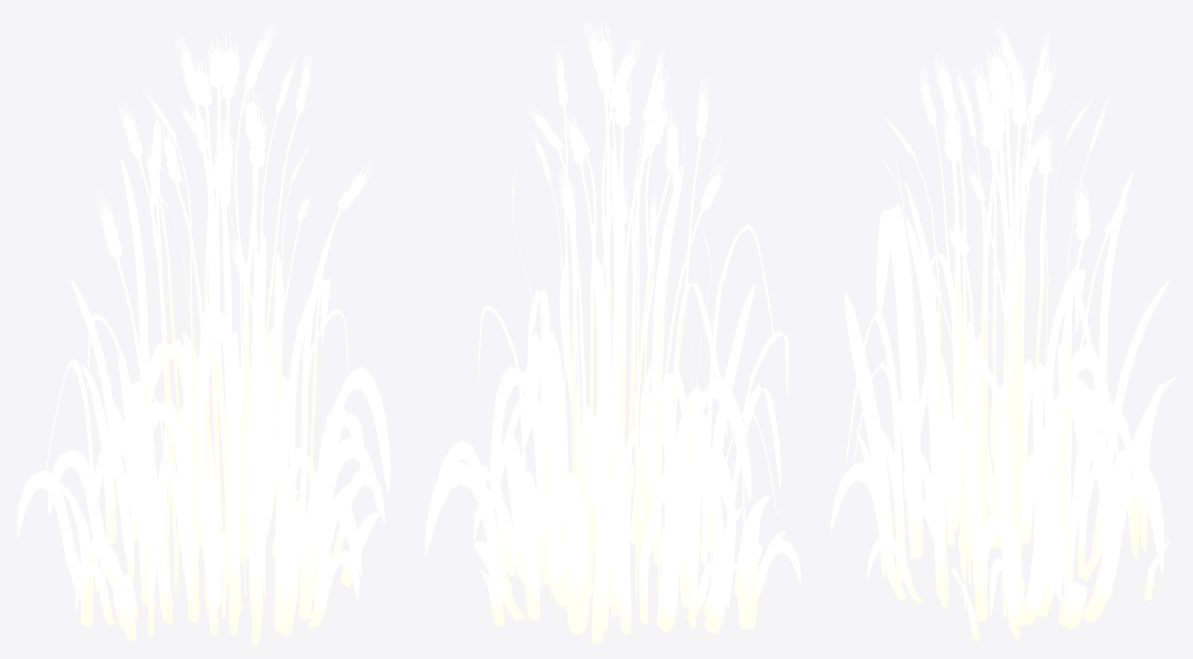
3 renders of one model, left to right at view 1: azimuth 30°, elevation 25°; view 2: azimuth 150°, elevation 25°; view 3: azimuth 270°, elevation 25°, orthographic.
Parts seen in each view (by area): view 1: SM_Wheat_01_LOD0; view 2: SM_Wheat_01_LOD0; view 3: SM_Wheat_01_LOD0.
Part boxes in pixels (bbox=[...]): SM_Wheat_01_LOD0: bbox=[17, 22, 390, 644]; SM_Wheat_01_LOD0: bbox=[424, 19, 800, 644]; SM_Wheat_01_LOD0: bbox=[830, 20, 1177, 641].
Bounding box in the file's own units: 1.35 × 2.26 × 1.25.
1 material, 1 textured.
